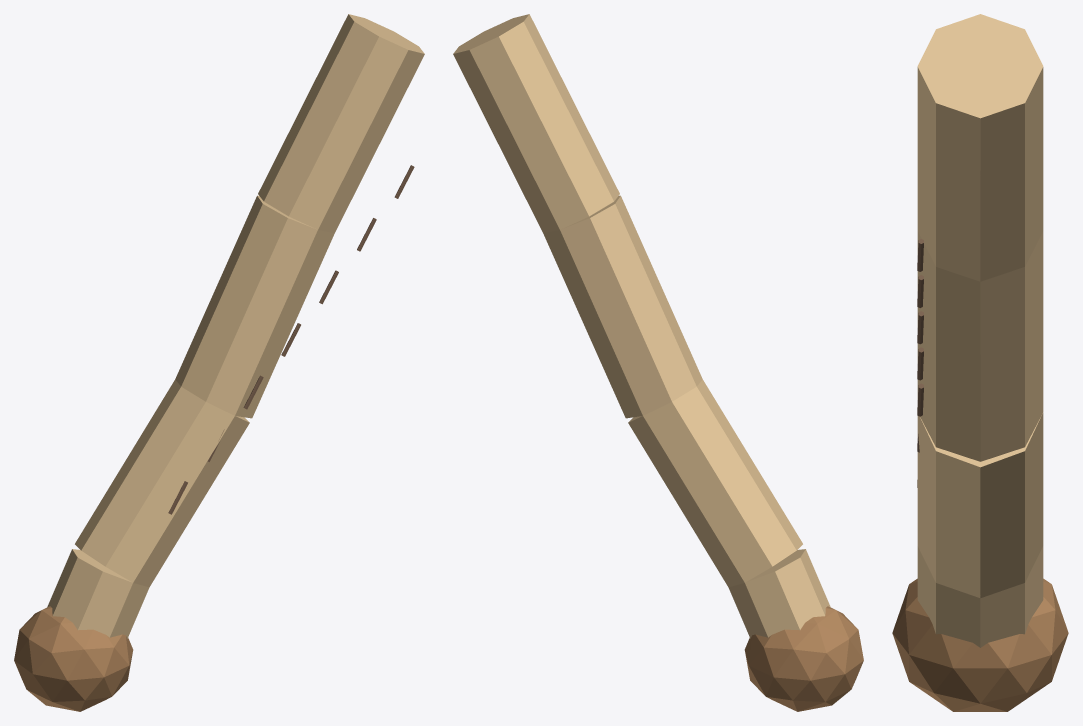
Rendered from kitchen_surikogi.glb.
3 renders of one model, left to right at view 1: azimuth 30°, elevation 25°; view 2: azimuth 150°, elevation 25°; view 3: azimuth 270°, elevation 25°, orthographic. The views are drawn at different scales.
Parts seen in each view (by area): view 1: Wooden surikogi softly tapered_03, Wooden surikogi softly tapered_02, Wooden surikogi softly tapered_01, Rounded grinding bulb, Wooden surikogi softly tapered_00; view 2: Wooden surikogi softly tapered_03, Wooden surikogi softly tapered_02, Wooden surikogi softly tapered_01, Rounded grinding bulb, Wooden surikogi softly tapered_00; view 3: Wooden surikogi softly tapered_03, Wooden surikogi softly tapered_02, Wooden surikogi softly tapered_01, Rounded grinding bulb, Wooden surikogi softly tapered_00.
Boxes of the visible parts, x1,y1,x2,y2 form: Wooden surikogi softly tapered_03: (258, 14, 424, 233); Wooden surikogi softly tapered_02: (175, 195, 334, 418); Wooden surikogi softly tapered_01: (75, 379, 249, 587); Rounded grinding bulb: (14, 606, 133, 711); Wooden surikogi softly tapered_00: (47, 549, 149, 638); Wooden surikogi softly tapered_03: (453, 14, 619, 233); Wooden surikogi softly tapered_02: (543, 195, 702, 418); Wooden surikogi softly tapered_01: (628, 379, 802, 587); Rounded grinding bulb: (744, 606, 863, 711); Wooden surikogi softly tapered_00: (728, 549, 830, 638); Wooden surikogi softly tapered_03: (917, 14, 1043, 281); Wooden surikogi softly tapered_02: (917, 231, 1043, 461); Wooden surikogi softly tapered_01: (917, 412, 1043, 598); Rounded grinding bulb: (892, 578, 1068, 711); Wooden surikogi softly tapered_00: (917, 546, 1043, 647).
Bounding box in the file's own units: 1.31 × 1.95 × 0.3497.
